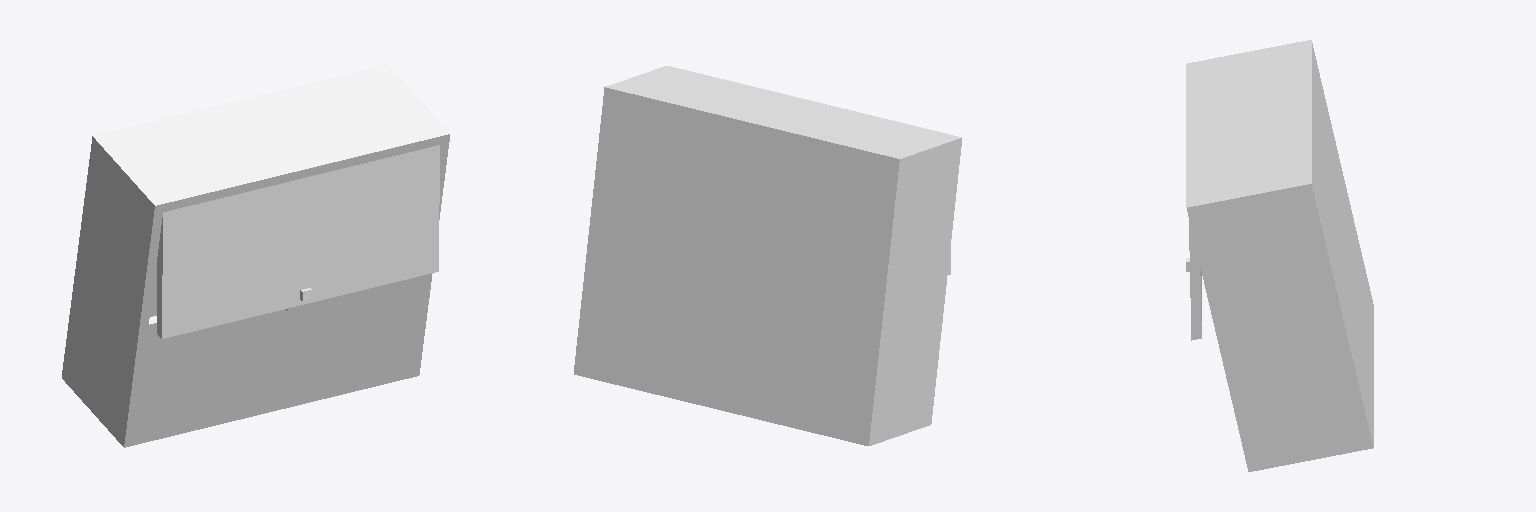
File: Wardrobe.obj
3 views of the same model, side by side, from view 1: azimuth 30°, elevation 25°; view 2: azimuth 150°, elevation 25°; view 3: azimuth 270°, elevation 25° (orthographic).
Visible parts, largest first — view 1: Wardrobe; view 2: Wardrobe; view 3: Wardrobe.
Boxes of the visible parts, box(x1,y1,x2,y2) form: Wardrobe: box(62, 64, 449, 447); Wardrobe: box(574, 66, 961, 445); Wardrobe: box(1186, 40, 1373, 471).
Bounding box in the file's own units: 4 × 3.74 × 2.2.